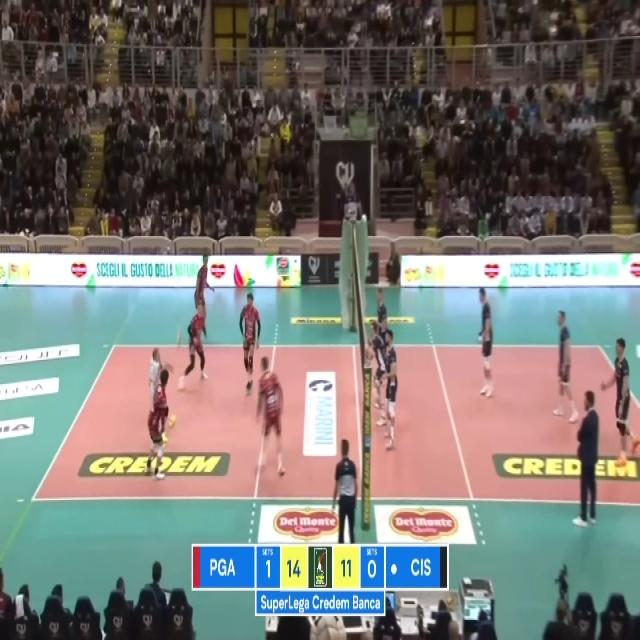volleyball court: (34, 342, 639, 502)
